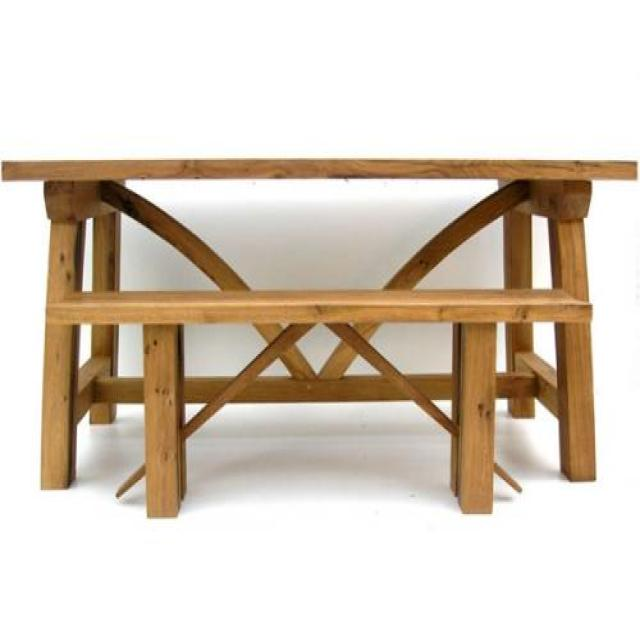table: (2, 156, 639, 492)
